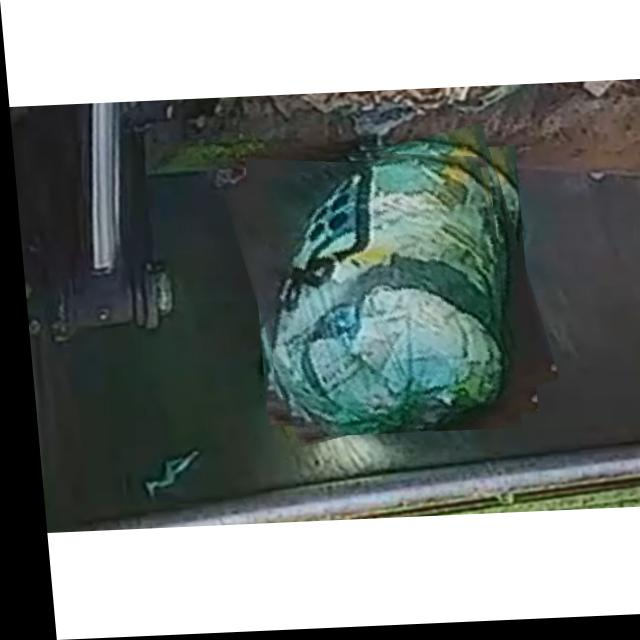general_trashbag: (266, 154, 502, 439)
